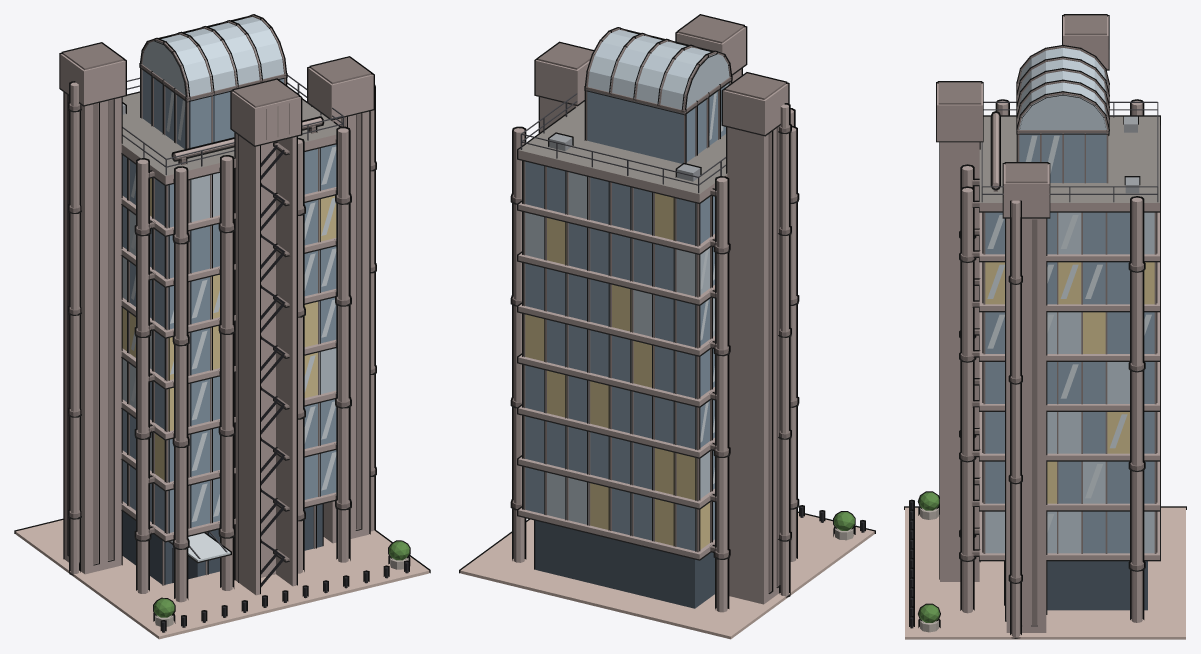
The model's file is OfisKulesi_karisik_1_2.fbx.
3 views of the same model, side by side, from view 1: azimuth 30°, elevation 25°; view 2: azimuth 150°, elevation 25°; view 3: azimuth 270°, elevation 25° (orthographic). The views are drawn at different scales.
Parts seen in each view (by area): view 1: OfisKulesi_karisik_1_2; view 2: OfisKulesi_karisik_1_2; view 3: OfisKulesi_karisik_1_2.
Part boxes in pixels (x1,y1,x2,y2): OfisKulesi_karisik_1_2: (14,14,430,639); OfisKulesi_karisik_1_2: (459,14,875,639); OfisKulesi_karisik_1_2: (904,14,1186,639).
Bounding box in the file's own units: 20.55 × 36.59 × 18.52.
